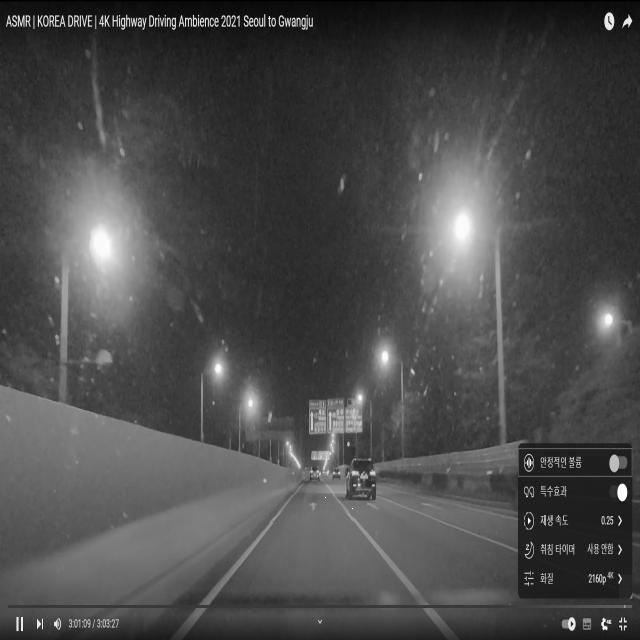forward: (270, 495, 353, 523)
